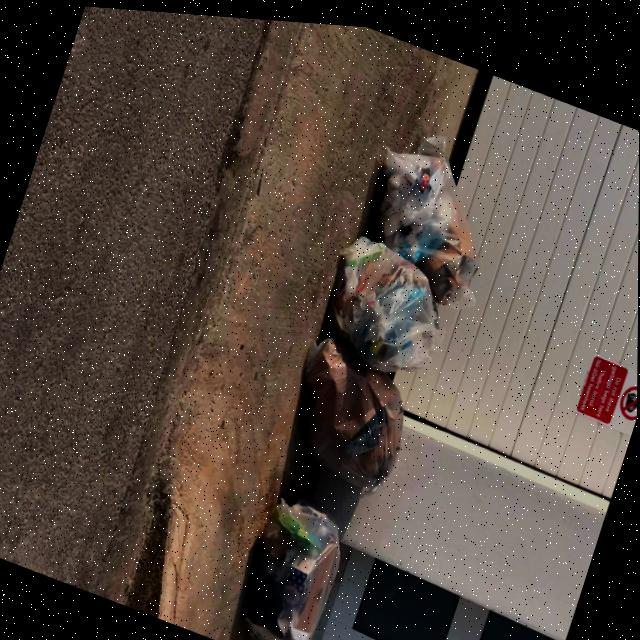Recycled Waste -Grey or Green Bag-: (342, 104, 524, 317), (267, 323, 428, 509), (309, 217, 467, 388), (221, 476, 363, 640)
